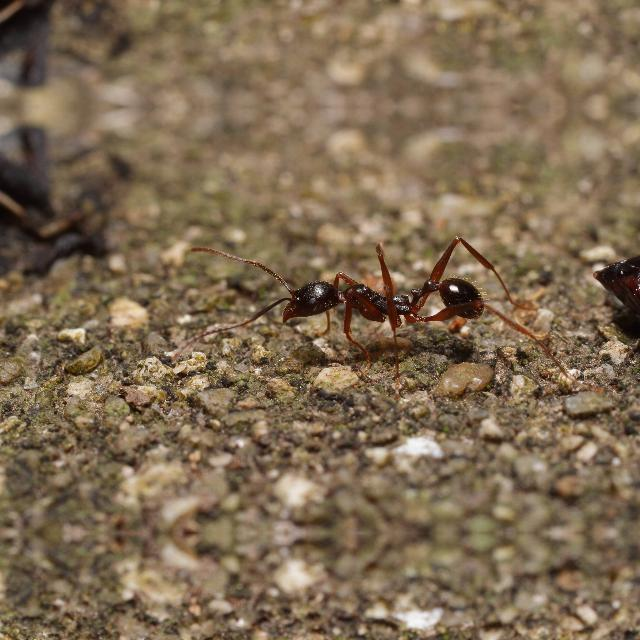Apheanogaster: (248, 250, 514, 346)
